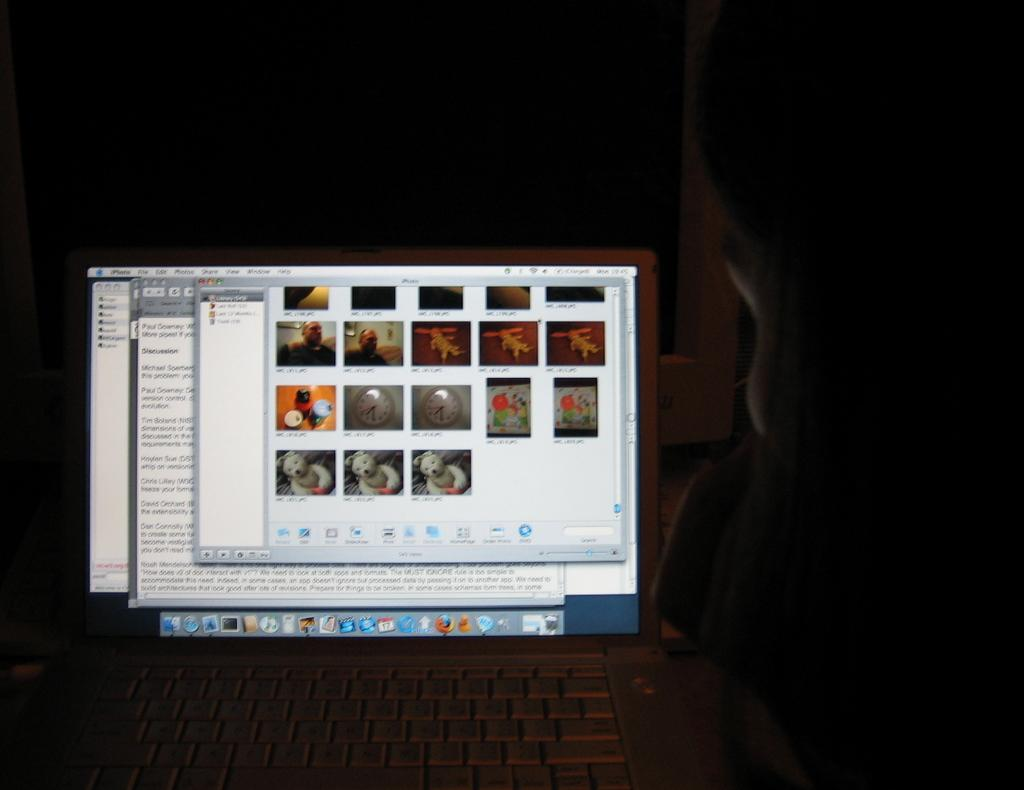Computer-monitor: (75, 255, 642, 639)
Laptop: (24, 239, 669, 774)
